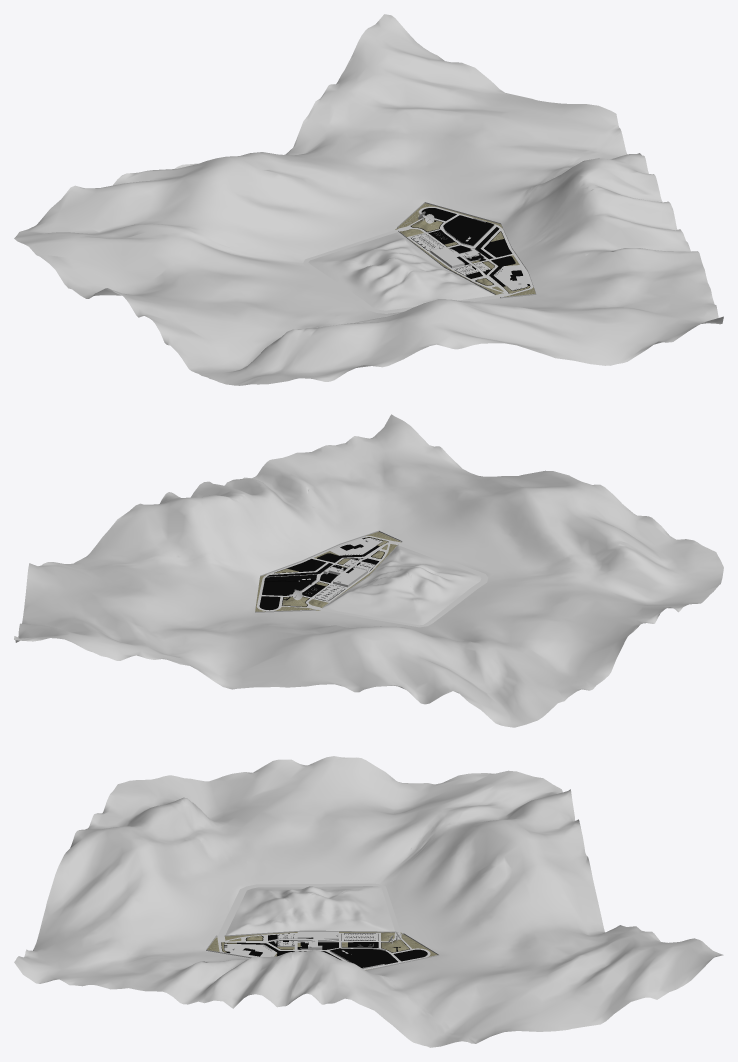
The model's file is Nuclear power plant map.fbx.
The picture shows the model from 3 angles, top to bottom: view 1: azimuth 30°, elevation 25°; view 2: azimuth 150°, elevation 25°; view 3: azimuth 270°, elevation 25°; orthographic projection. The views are drawn at different scales.
Parts seen in each view (by area): view 1: colision, concrete.001, bituminous_pavement, concrete, NPP, concrete.003, grass; view 2: colision, concrete.001, concrete, bituminous_pavement, concrete.003, NPP, grass; view 3: colision, concrete.001, bituminous_pavement, concrete, concrete.003, NPP, grass.
Part boxes in pixels (x1,y1,x2,y2): colision: (14, 14, 723, 385); concrete.001: (16, 14, 723, 385); bituminous_pavement: (395, 206, 533, 297); concrete: (405, 208, 530, 293); NPP: (397, 202, 536, 298); concrete.003: (303, 230, 499, 313); grass: (396, 205, 535, 295); colision: (14, 414, 723, 727); concrete.001: (15, 414, 723, 726); concrete: (259, 537, 388, 610); bituminous_pavement: (256, 536, 401, 611); concrete.003: (321, 543, 488, 627); NPP: (255, 530, 402, 612); grass: (255, 531, 399, 611); colision: (14, 756, 723, 1047); concrete.001: (16, 757, 720, 1046); bituminous_pavement: (217, 931, 430, 969); concrete: (221, 933, 427, 967); concrete.003: (217, 883, 400, 936); NPP: (206, 930, 439, 970); grass: (207, 932, 437, 970).
Bounding box in the file's own units: 178152 × 17070 × 198820.
